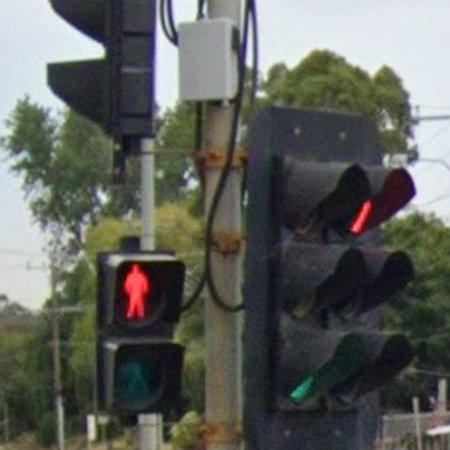traffic lights: (242, 108, 420, 450), (37, 0, 160, 127), (106, 253, 195, 412)
